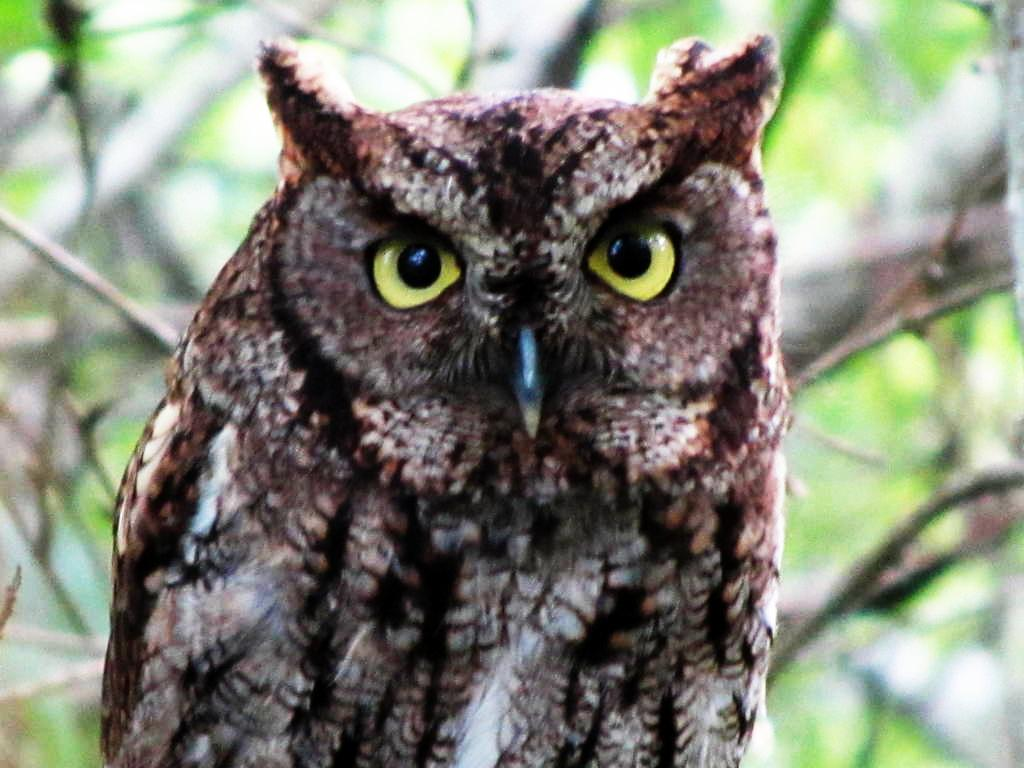Owl: (104, 30, 788, 768)
